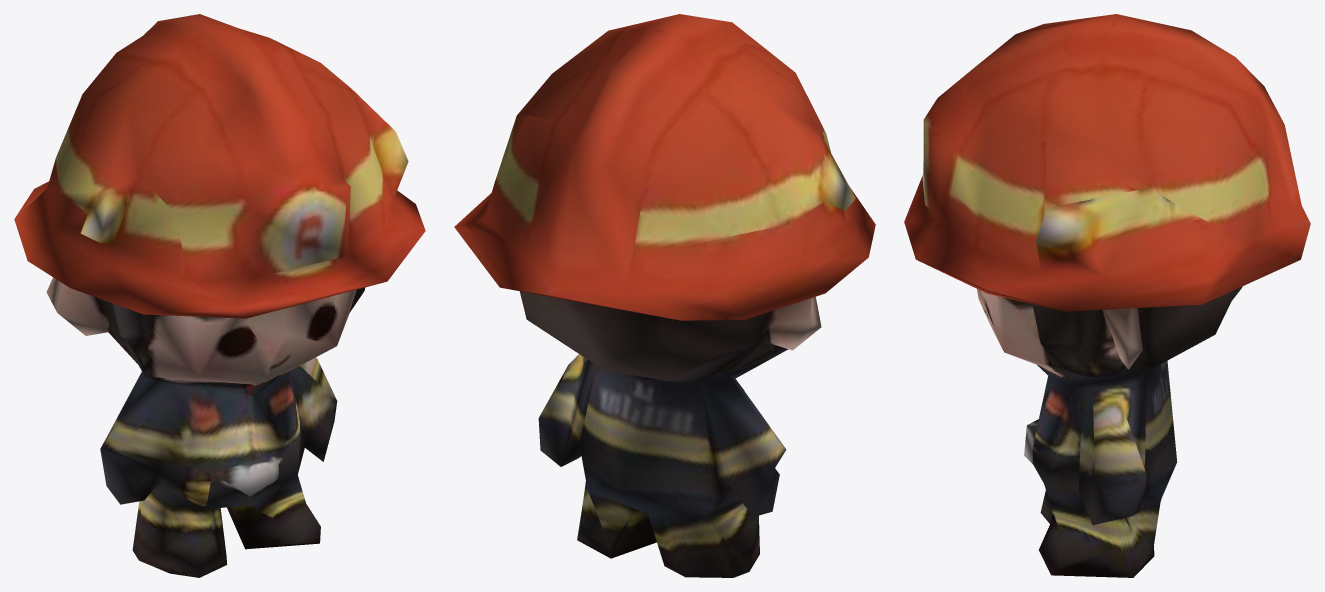
File: Firefighter.glb
The picture shows the model from 3 angles, left to right: view 1: azimuth 30°, elevation 25°; view 2: azimuth 150°, elevation 25°; view 3: azimuth 270°, elevation 25°; orthographic projection. The views are drawn at different scales.
Visible parts, largest first — view 1: 3d66-Editable_mesh-23332900-001; view 2: 3d66-Editable_mesh-23332900-001; view 3: 3d66-Editable_mesh-23332900-001.
Boxes of the visible parts, x1=… form: 3d66-Editable_mesh-23332900-001: x1=14, y1=14, x2=425, y2=577; 3d66-Editable_mesh-23332900-001: x1=454, y1=14, x2=875, y2=577; 3d66-Editable_mesh-23332900-001: x1=904, y1=14, x2=1310, y2=577.
Size of the model in its own units: 0.8059 by 1.13 by 0.7999.
Materials: 1 (1 with a texture image).
